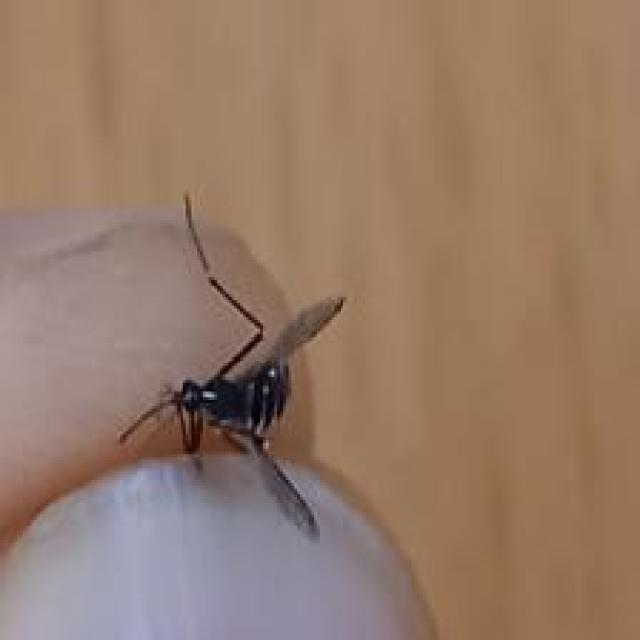Aedes albopictus: (116, 190, 347, 541)
